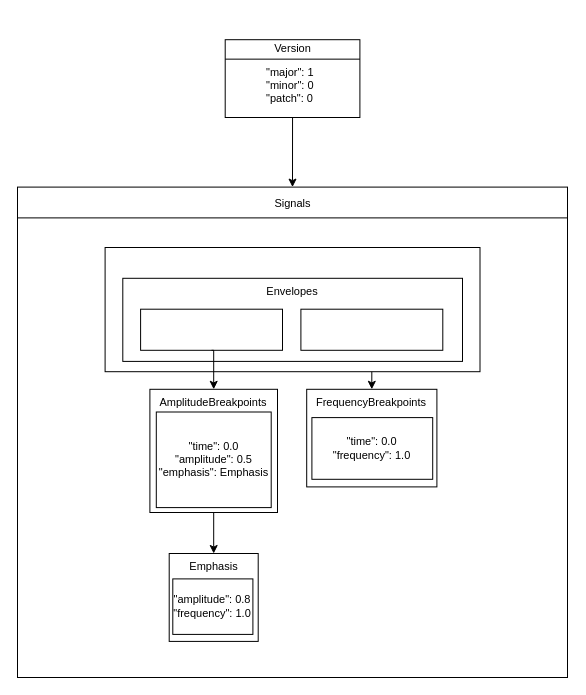
Image size: 586x695. Some labels were removed from this diagram. The shapes that lost their labels are listed below. From the top down, each one's box as (x1, y1, x2, y2) in pixels, then its label:
(140, 308, 282, 350): "amplitude"
(104, 246, 480, 372): SignalContinuous
(300, 308, 443, 350): "frequency"
